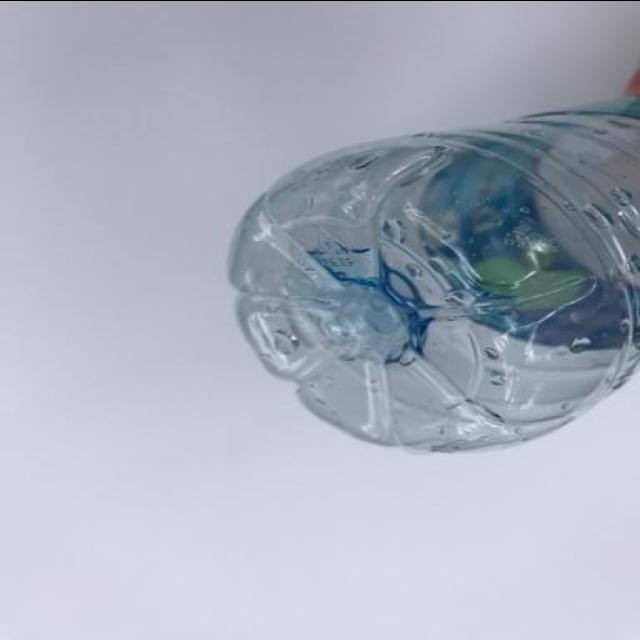PET: (220, 43, 640, 455)
